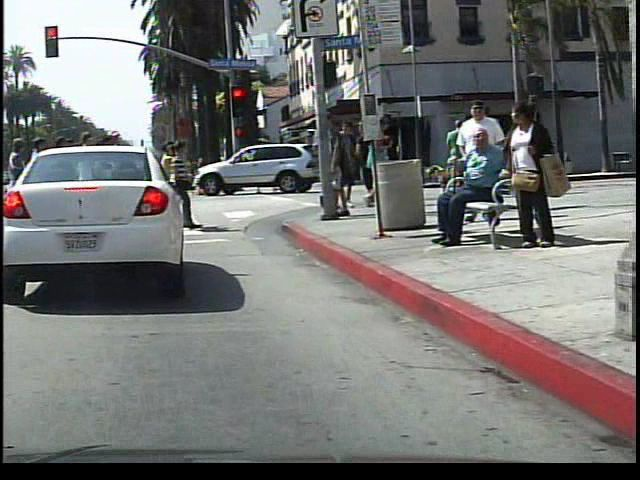person: (422, 129, 511, 258), (495, 100, 562, 260), (349, 112, 397, 213), (243, 146, 268, 197)
